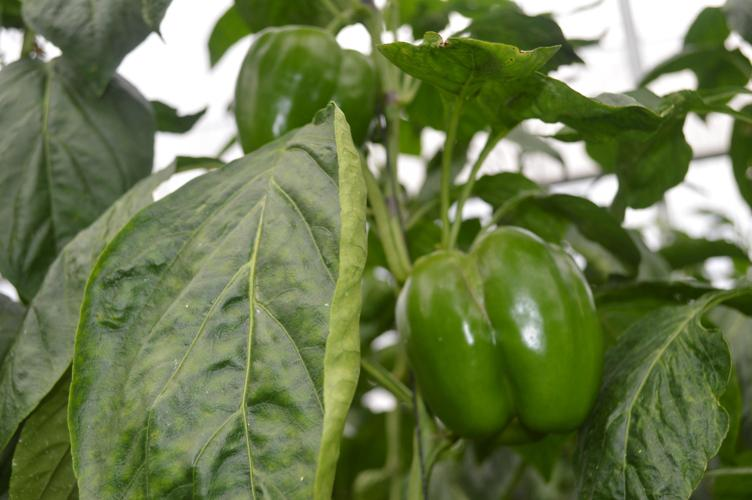BellPepper: (407, 229, 598, 432), (230, 30, 382, 152)
